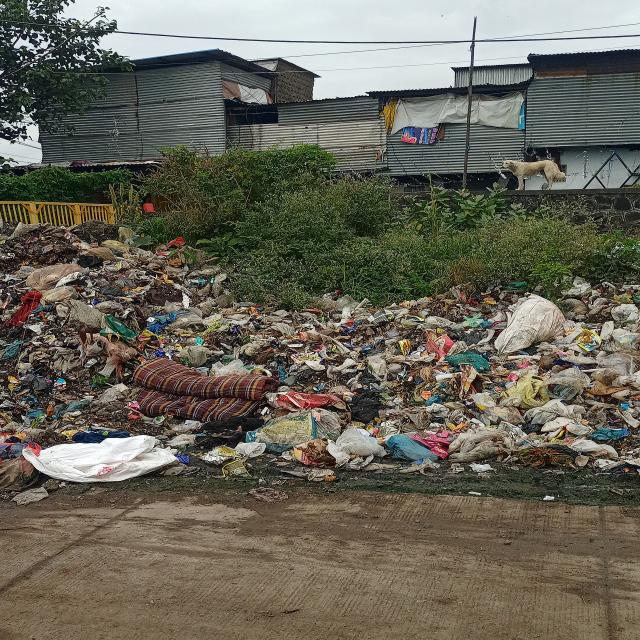garbage: (263, 283, 640, 485), (5, 220, 249, 491)
